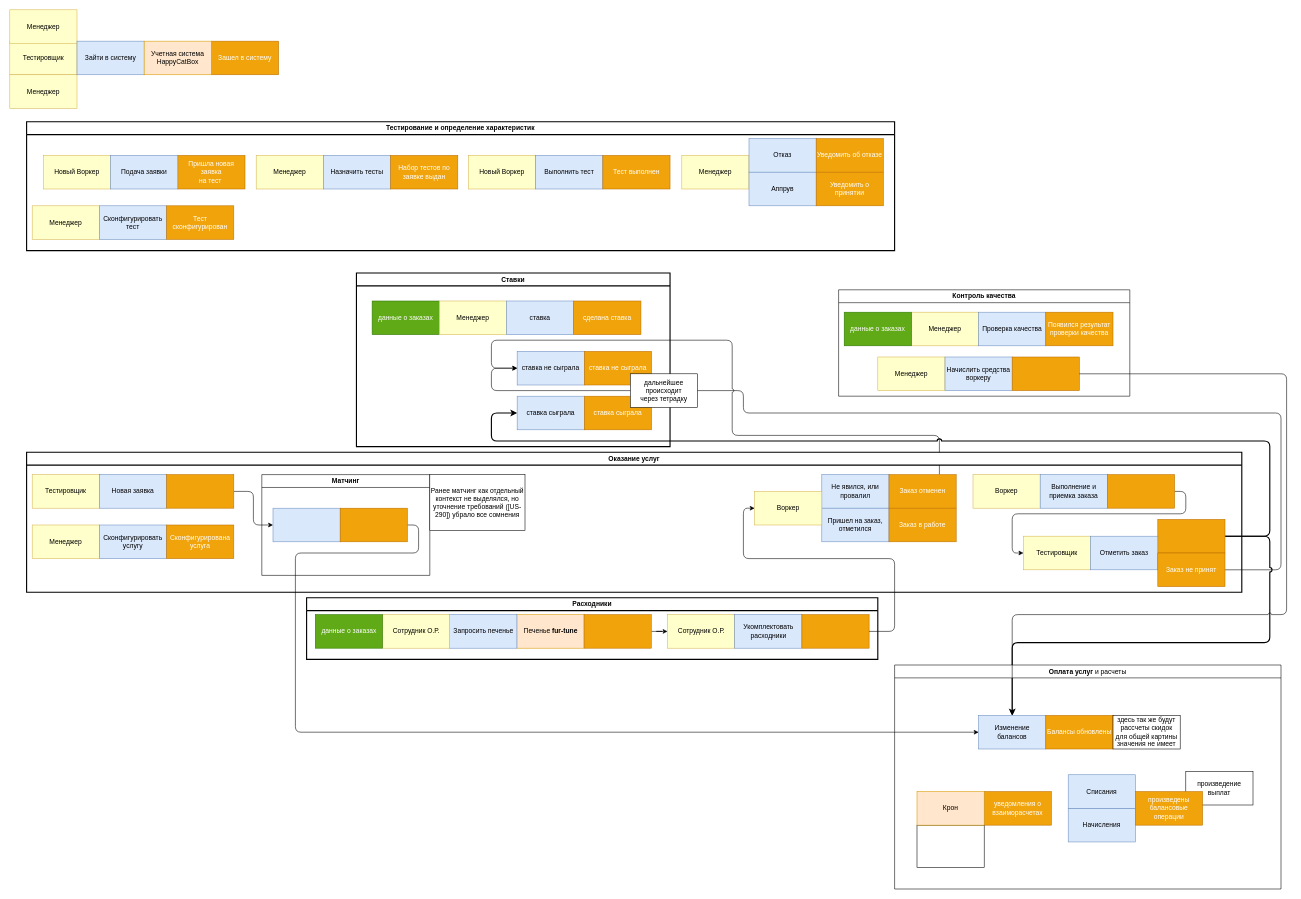
Some shapes in this 1301 by 899 pixel diagram are drawn without their labels. The centre of each missing label's shape, as x and y in pixels:
Заказ выполнен: point (1141, 491)
Заказ принят: point (1191, 536)
Заказу назначен воркер: point (373, 525)
крон каждую неделю, т.к. есть кейсы раз в две недели и раз в месяц: point (950, 846)
Начислены средства воркеру: point (1045, 373)
Печенье пришло: point (617, 631)
Провести матчинг назначить воркера: point (306, 525)
Расходники готовы: point (835, 631)
Создан новый заказ: point (200, 491)
